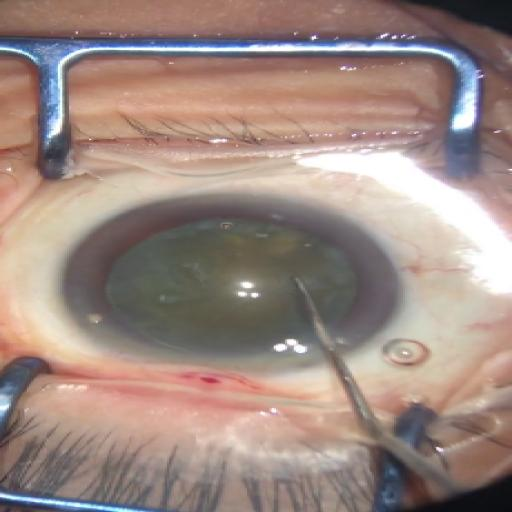catarata: (118, 225, 347, 352)
cornea: (54, 197, 393, 376)
pupil: (101, 221, 356, 362)
